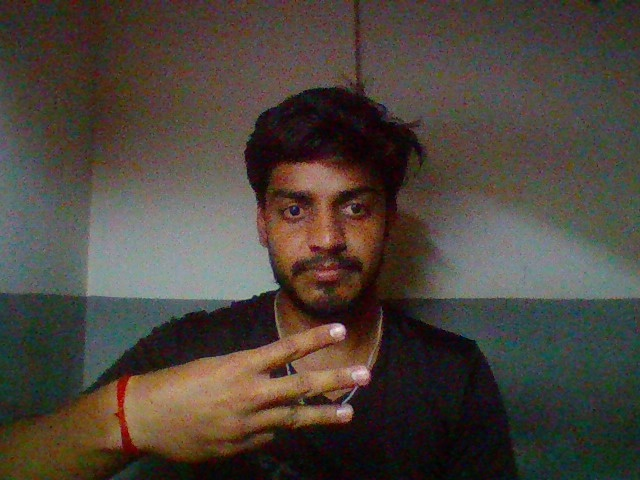E: (130, 312, 383, 467)
